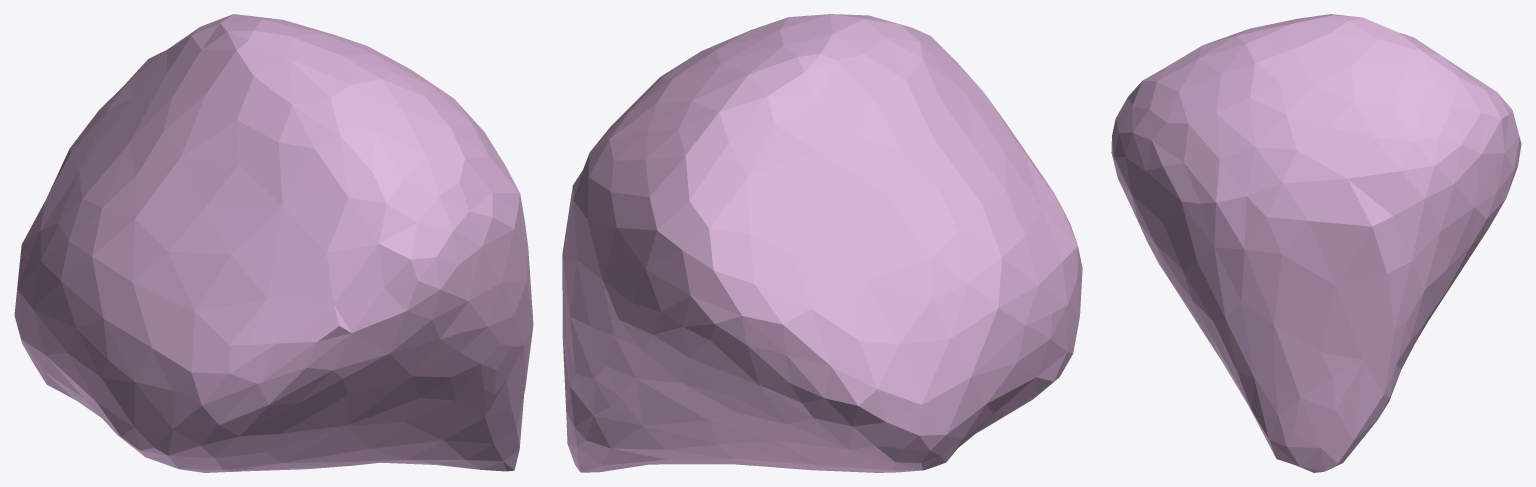
3 renders of one model, left to right at view 1: azimuth 30°, elevation 25°; view 2: azimuth 150°, elevation 25°; view 3: azimuth 270°, elevation 25°, orthographic. The views are drawn at different scales.
Visible parts, largest first — view 1: 100.obj; view 2: 100.obj; view 3: 100.obj.
Part boxes in pixels (x1=…): 100.obj: x1=14, y1=14, x2=533, y2=472; 100.obj: x1=562, y1=14, x2=1082, y2=472; 100.obj: x1=1111, y1=14, x2=1521, y2=472.
Bounding box in the file's own units: 876 × 924 × 930.
